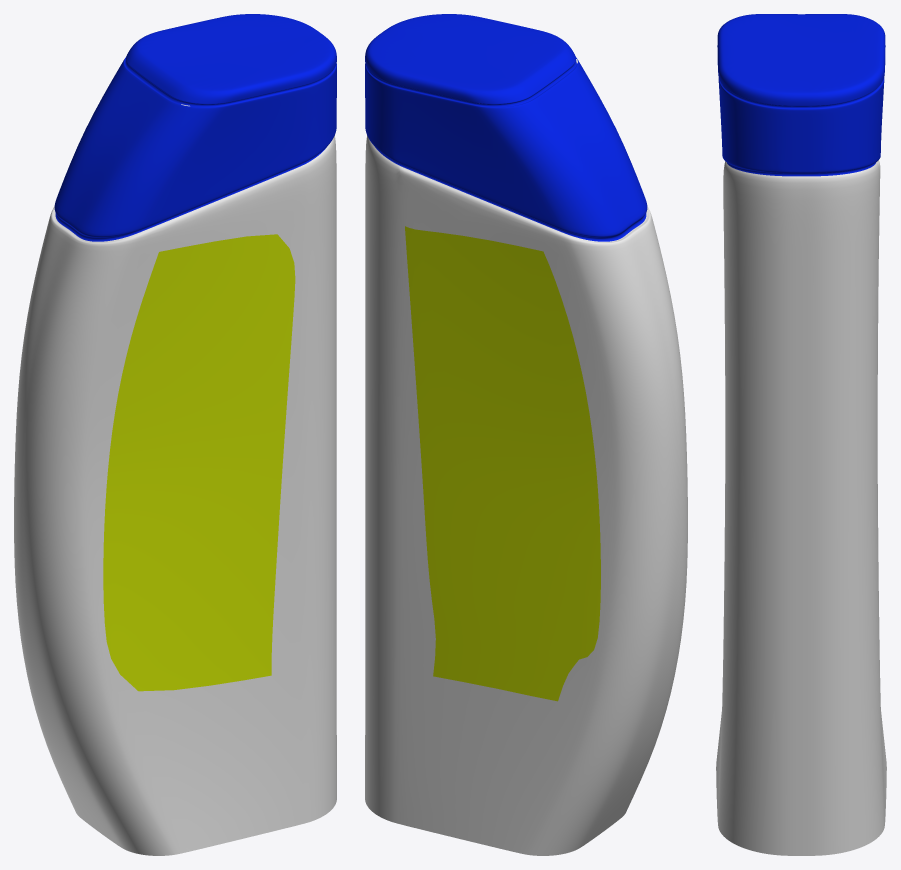
File: Shampoo.fbx
3 views of the same model, side by side, from view 1: azimuth 30°, elevation 25°; view 2: azimuth 150°, elevation 25°; view 3: azimuth 270°, elevation 25° (orthographic).
Visible parts, largest first — view 1: Plane; view 2: Plane; view 3: Plane.
Part boxes in pixels (x1,y1,x2,y2): Plane: [14, 14, 336, 855]; Plane: [365, 14, 687, 855]; Plane: [716, 14, 886, 855].
Size of the model in its own units: 425 by 1015 by 206.
